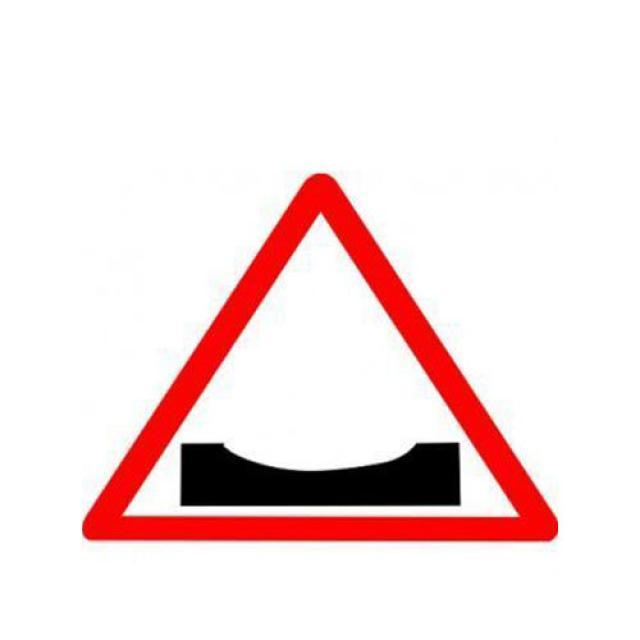dangerous dip: (83, 171, 558, 547)
